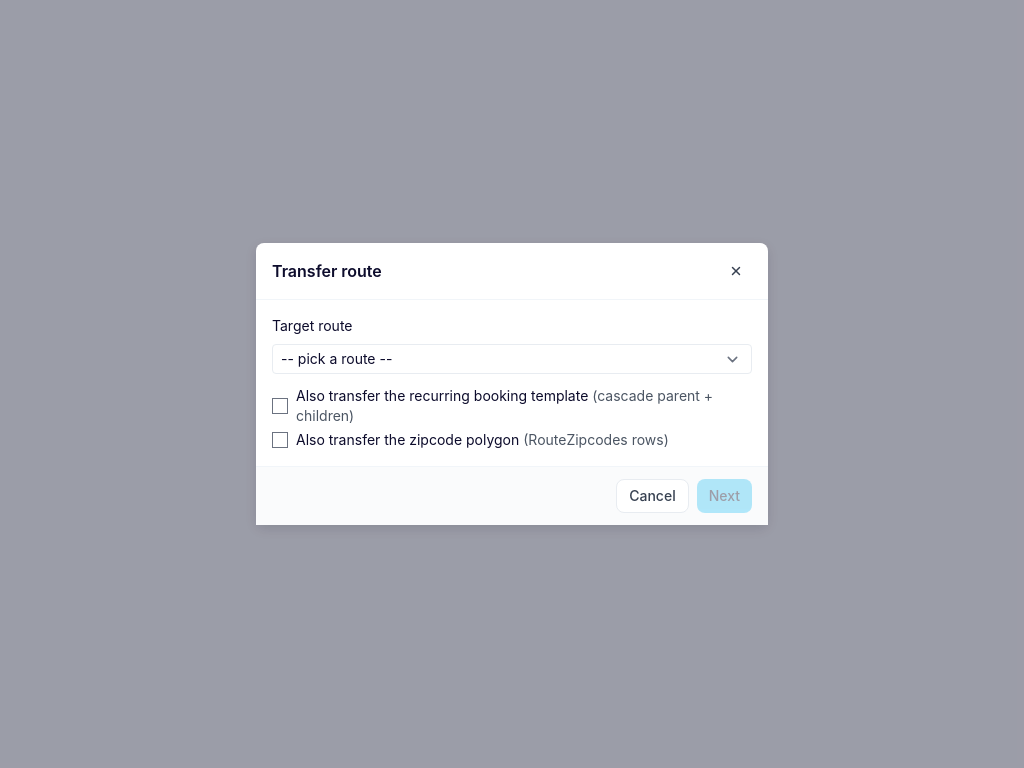
TransferRouteDialog › confirm-step preview table renders one row per supplied job with red from-route + green to-route
Select "North" in the dropdown at (512, 359), box [272,344,752,374]
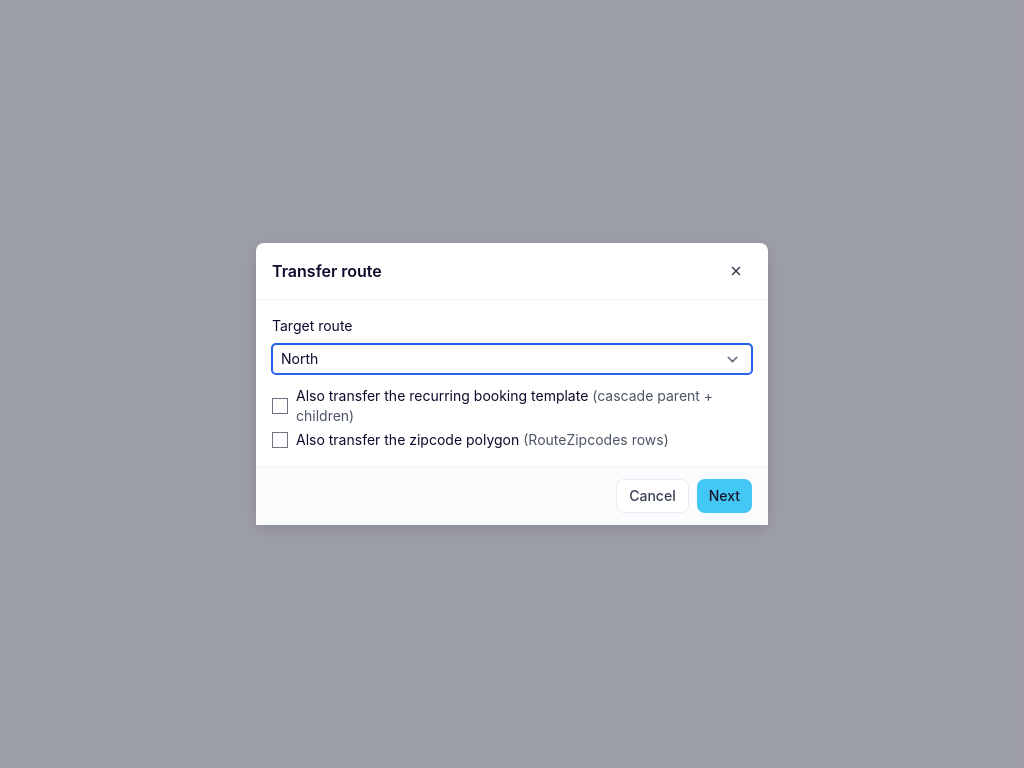
Click the button "Next" at (724, 496), box [697,479,752,513]
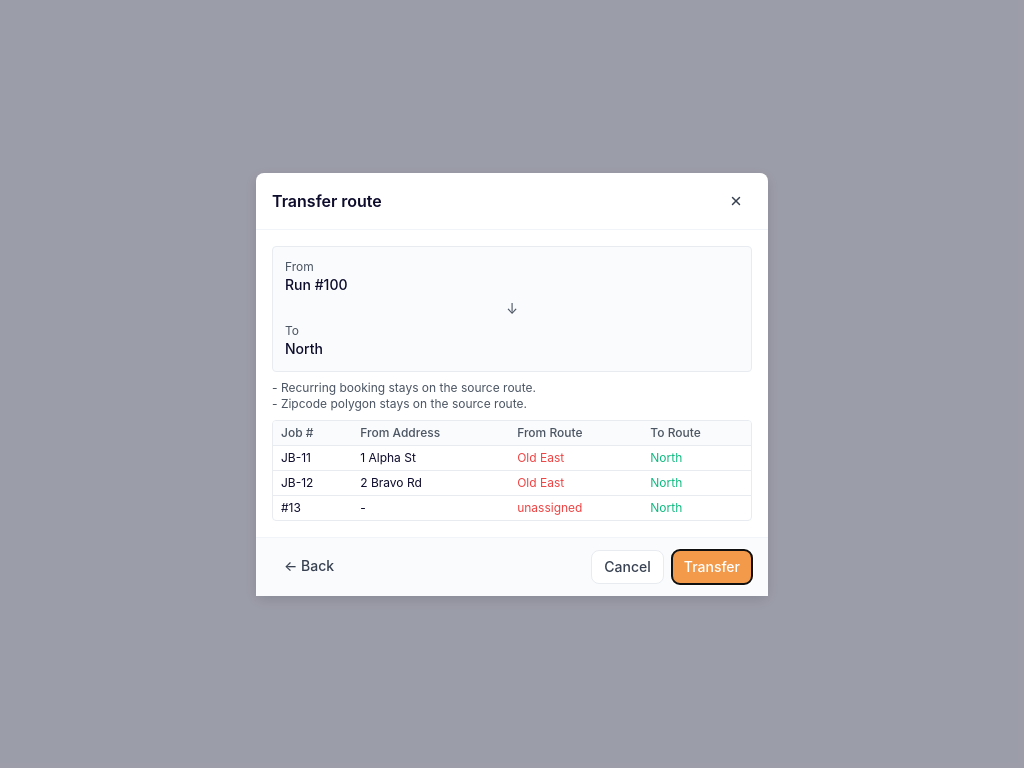
Result: the cell "JB-11" is shown at [273,445,352,470]
Result: the cell "1 Alpha St" is shown at [352,445,509,470]
Result: the cell "Old East" in the row of "JB-11" is shown at [517,450,564,464]
